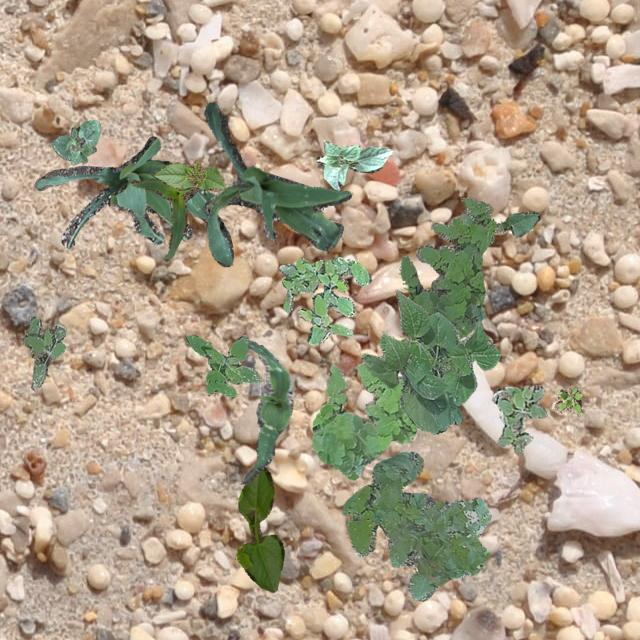crop: (34, 136, 232, 266), (202, 102, 350, 250), (360, 290, 500, 434), (240, 338, 292, 484), (236, 466, 284, 590), (130, 178, 198, 260), (314, 140, 392, 190), (50, 119, 100, 164), (153, 160, 224, 190), (488, 210, 538, 243)
weed: (342, 450, 491, 600), (398, 196, 496, 338), (310, 362, 416, 479), (278, 255, 371, 344), (184, 334, 262, 396), (492, 384, 546, 452), (20, 316, 64, 388), (554, 384, 580, 414)
